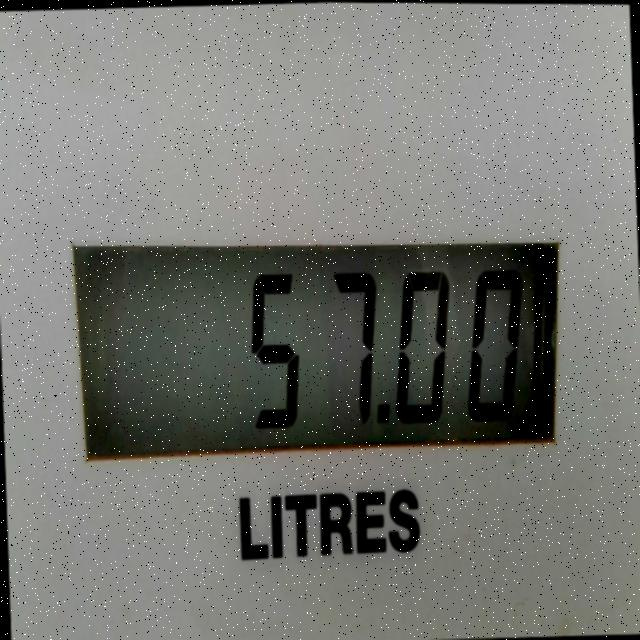.: (374, 389, 396, 440)
0: (458, 269, 528, 442), (392, 270, 461, 428)
5: (248, 272, 306, 426)
7: (336, 271, 380, 435)
